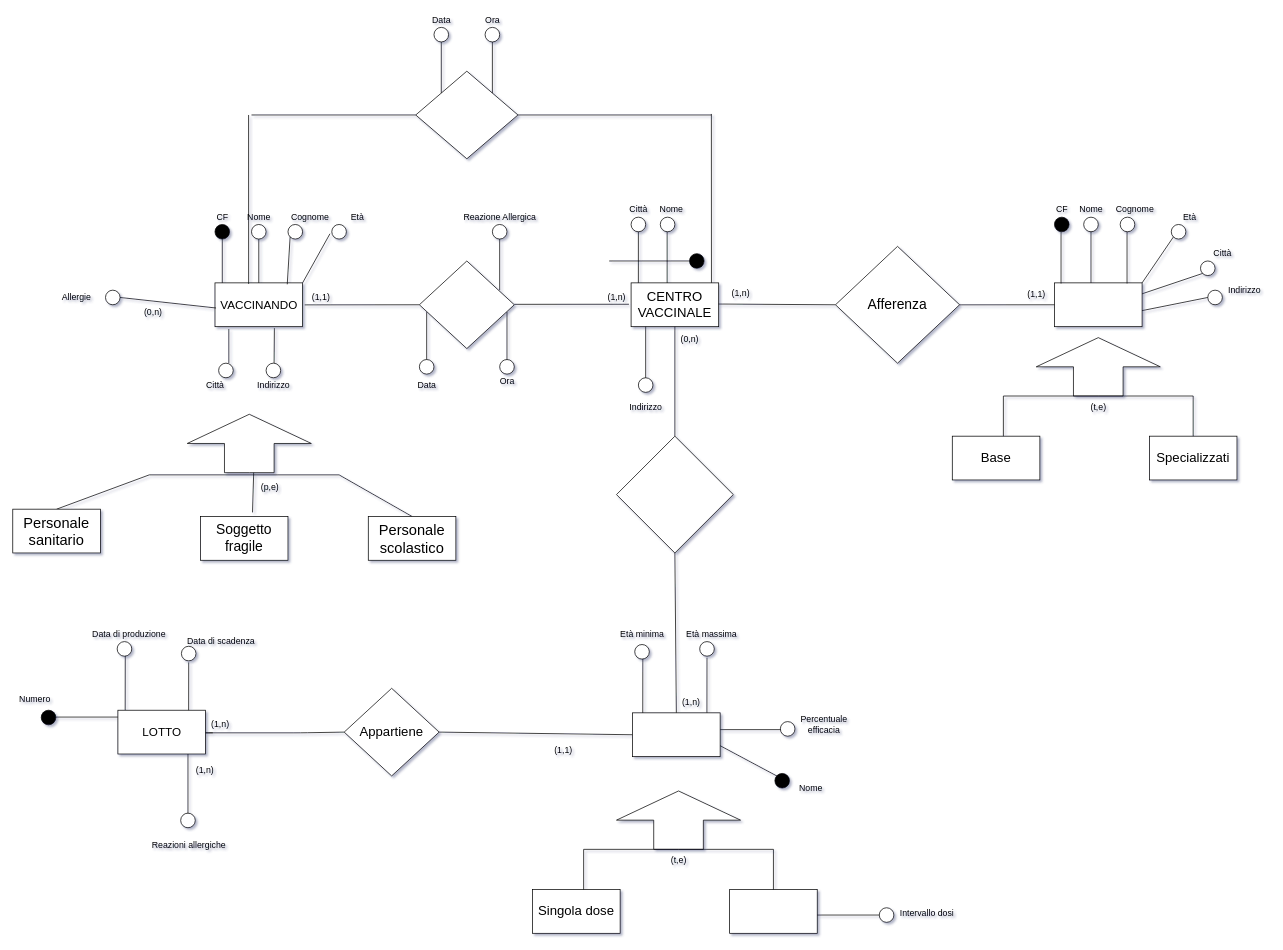
Some shapes in this 1283 by 950 pixel diagram are drawn without their labels. The box of each missing label's shape, as (x1, y1, x2, y2) in pixels:
Convocazione: (415, 70, 518, 159)
Doppia dose: (729, 889, 817, 933)
MEDICO: (1054, 282, 1142, 327)
Possiede: (616, 435, 733, 553)
Vaccinazione: (419, 260, 514, 349)
VACCINO: (632, 712, 720, 757)
